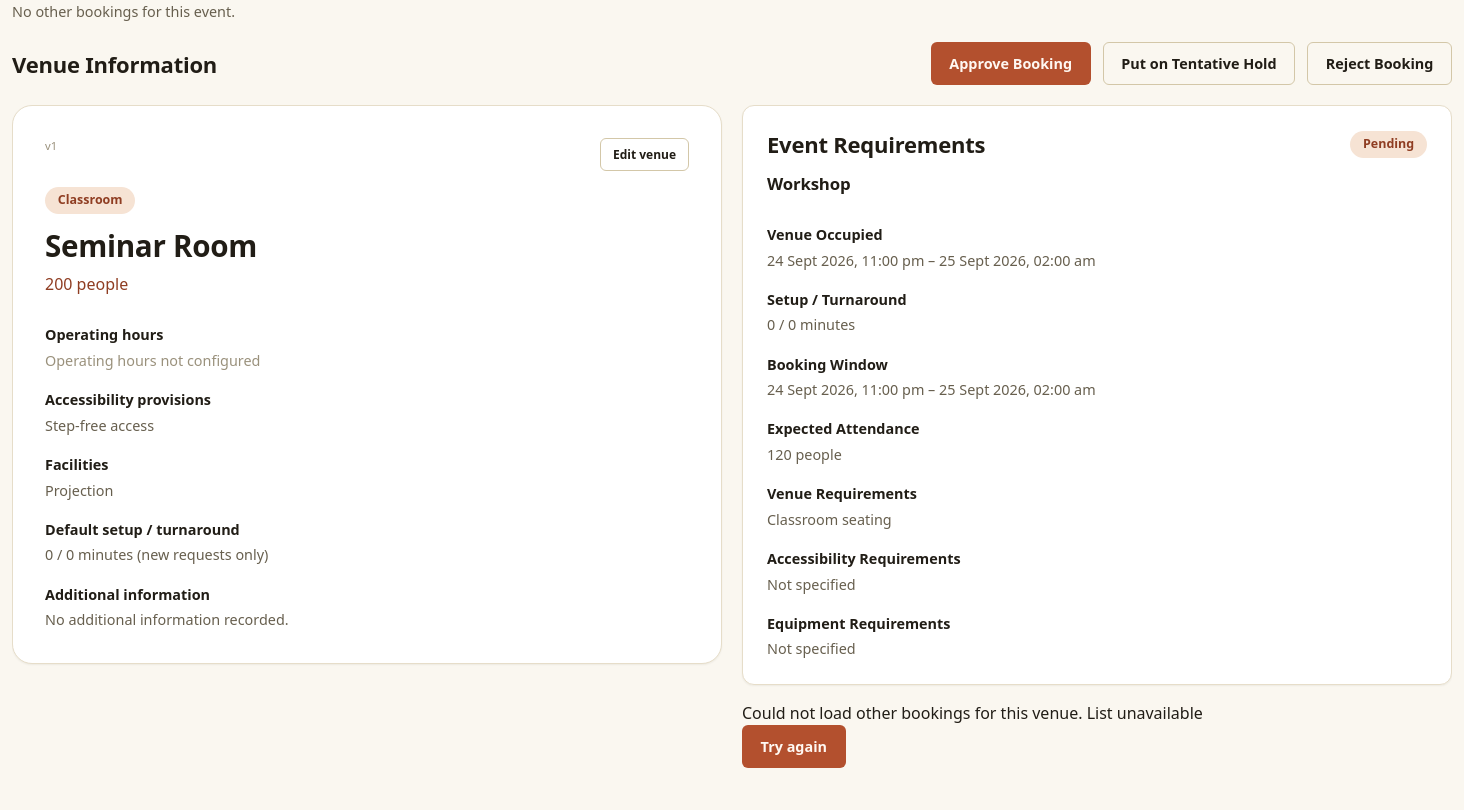
DEV16 booking detail coverage › DEV16 (failure): pagination errors can be retried and a removed list entry never exposes broken navigation
The width and height of the screenshot is (1464, 810).
(page scrolled)
Check: the message shows "Could not load other bookings for this venue.", box [742, 702, 1087, 724]
Click the button "Try again": click(794, 746) [742, 725, 846, 768]
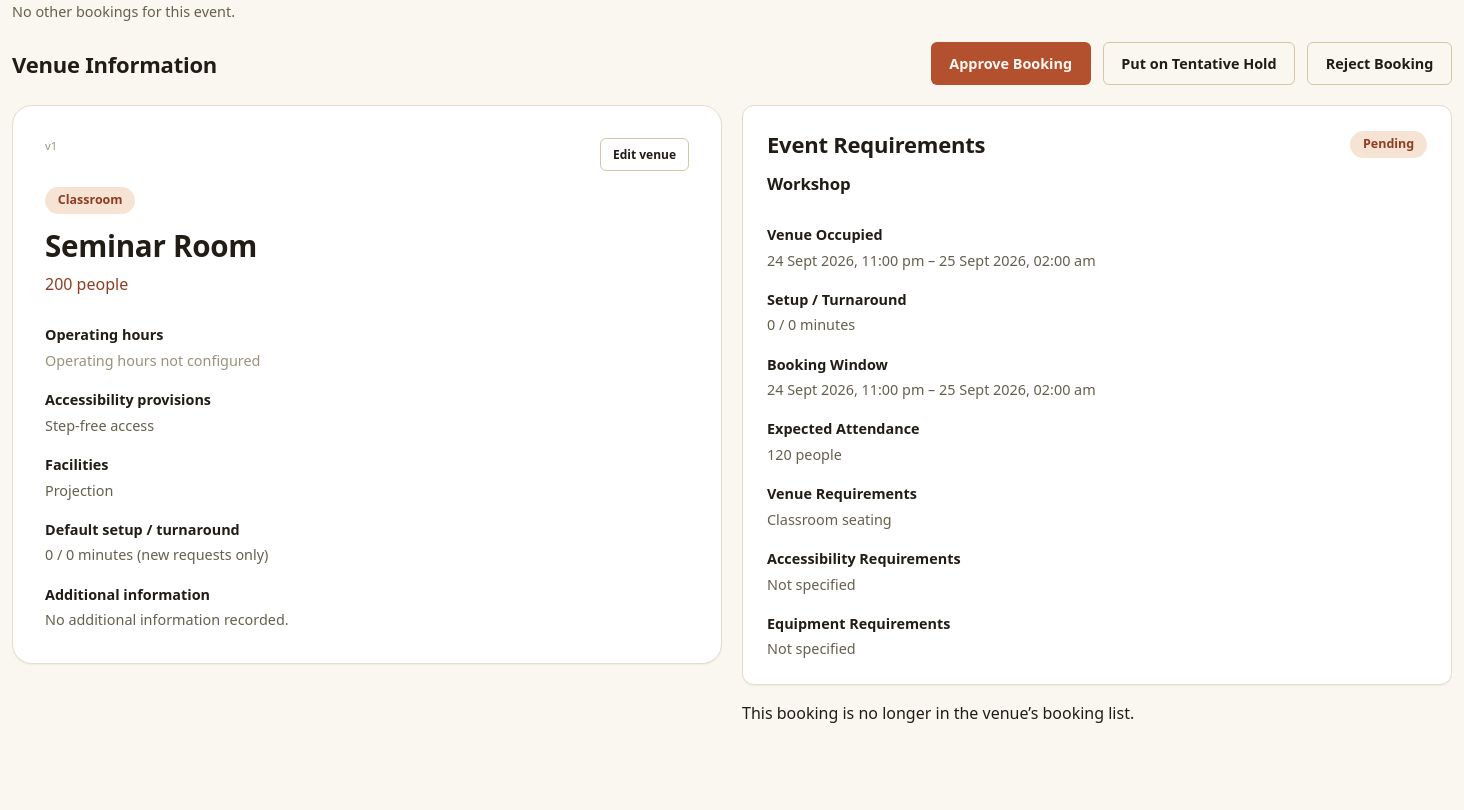
Check: the text "This booking is no longer in the venue’s booking list." is shown, box [742, 702, 1134, 724]
